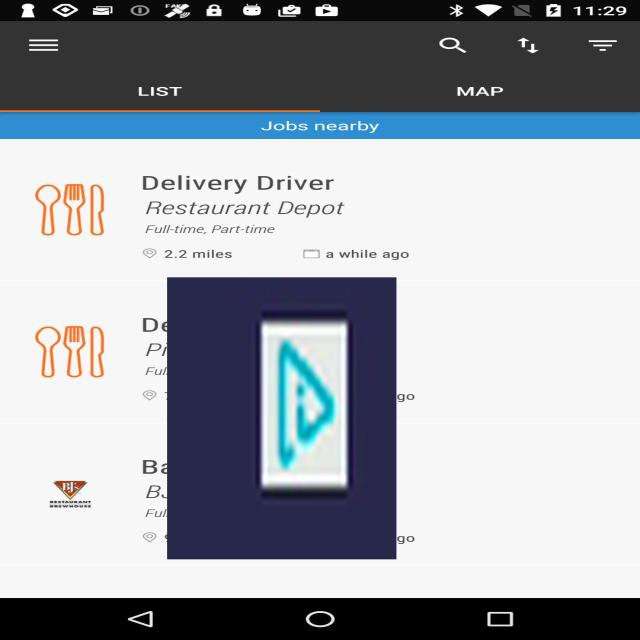sneaking: (167, 278, 397, 560)
